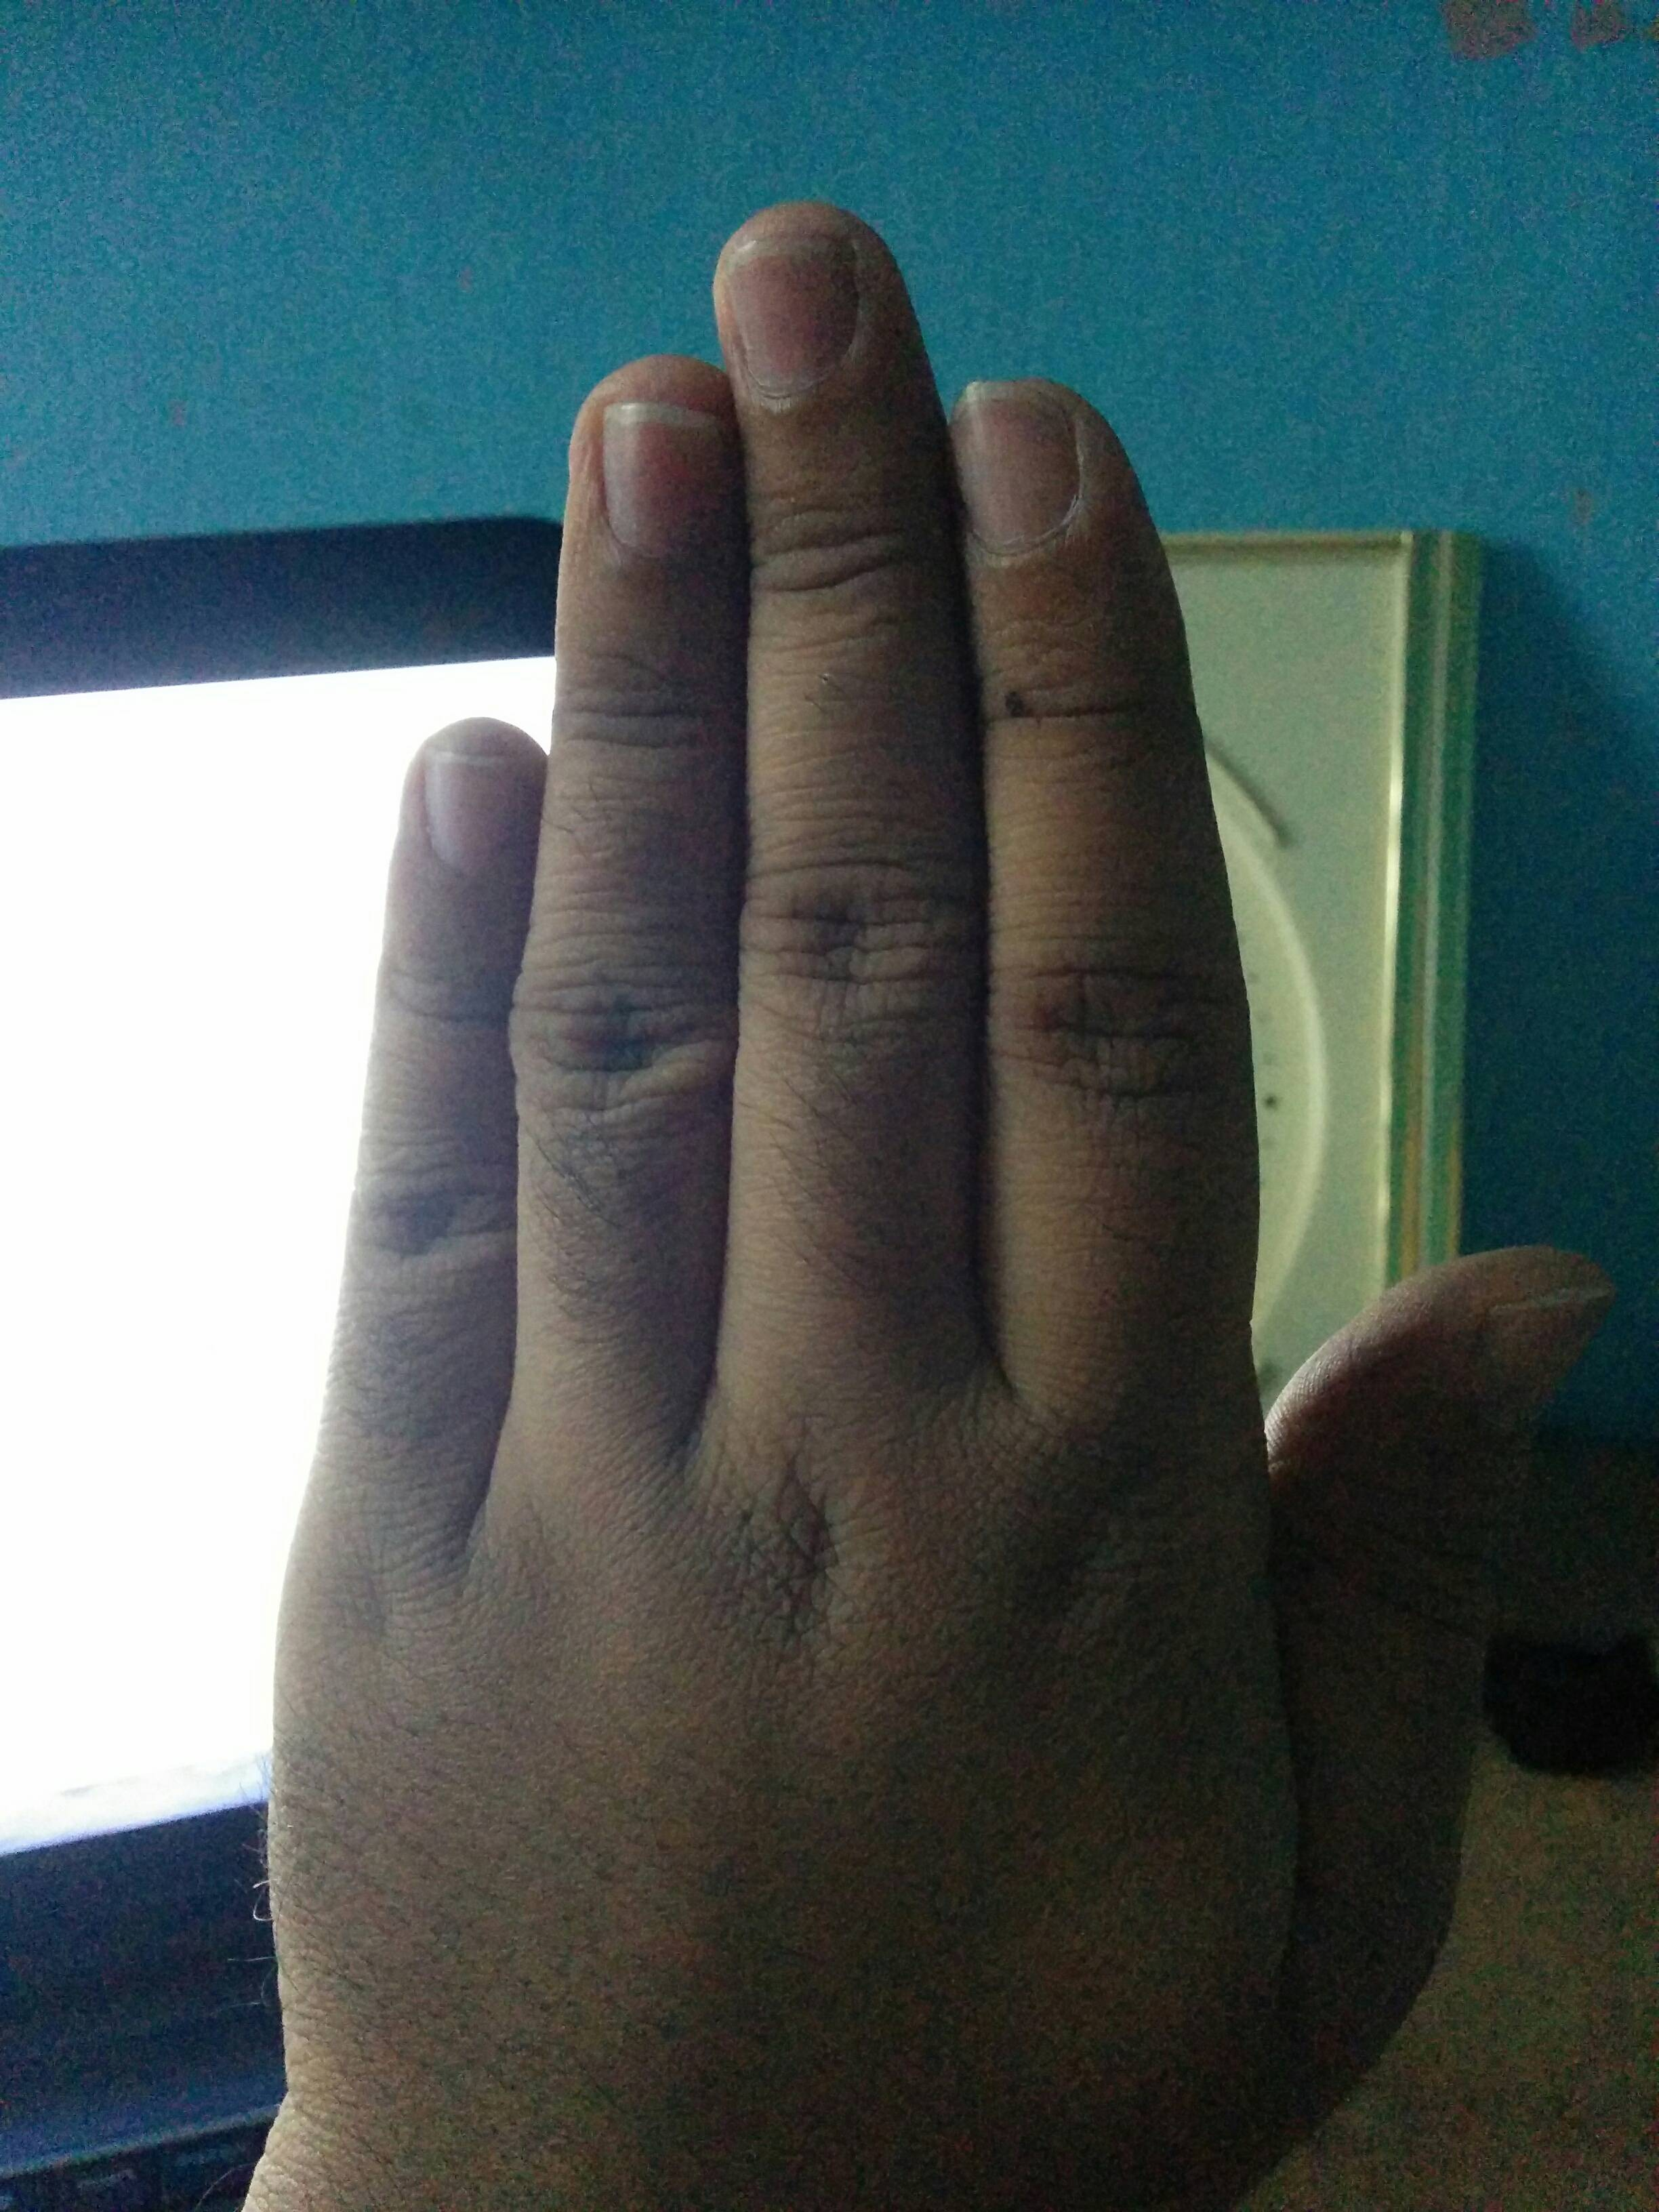finger: (939, 320, 1272, 1465), (694, 59, 972, 1414), (521, 286, 765, 1458), (277, 712, 537, 1529)
